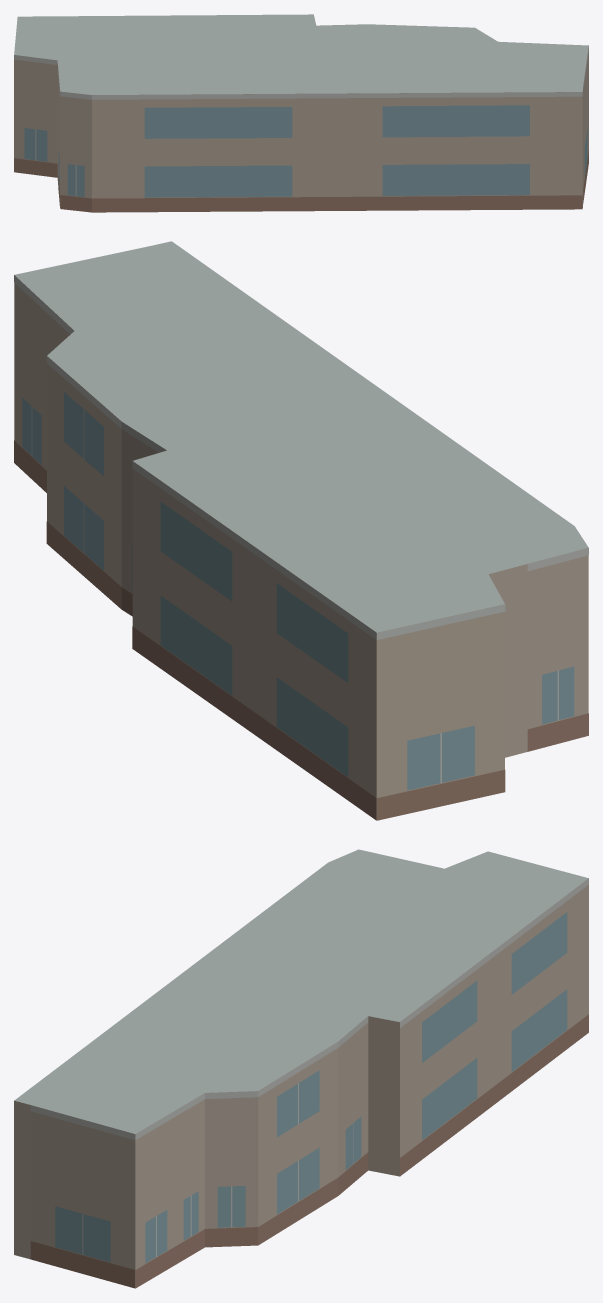
File: survey-upis-32662391.glb
The picture shows the model from 3 angles, top to bottom: view 1: azimuth 30°, elevation 25°; view 2: azimuth 150°, elevation 25°; view 3: azimuth 270°, elevation 25°; orthographic projection. The views are drawn at different scales.
Visible parts, largest first — view 1: survey-upis-32662391.tmp; view 2: survey-upis-32662391.tmp; view 3: survey-upis-32662391.tmp.
Part boxes in pixels (<box>): survey-upis-32662391.tmp: <box>14,14,588,212</box>; survey-upis-32662391.tmp: <box>14,241,588,820</box>; survey-upis-32662391.tmp: <box>14,849,588,1288</box>.
Bounding box in the file's own units: 24.14 × 6.1 × 20.59.
